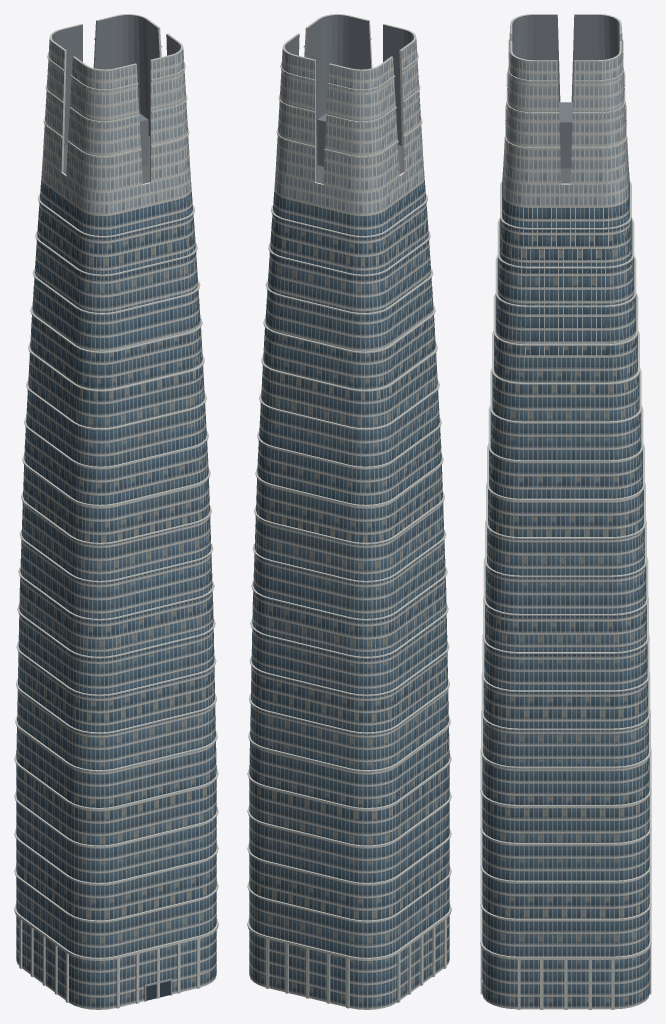
Rendered from salesforce_tower.glb.
The picture shows the model from 3 angles, left to right: view 1: azimuth 30°, elevation 25°; view 2: azimuth 150°, elevation 25°; view 3: azimuth 270°, elevation 25°; orthographic projection.
Visible parts, largest first — view 1: salesforce_tower; view 2: salesforce_tower; view 3: salesforce_tower.
Part boxes in pixels (bbox=[...]): salesforce_tower: bbox=[14, 14, 218, 1009]; salesforce_tower: bbox=[247, 14, 451, 1009]; salesforce_tower: bbox=[480, 14, 651, 1009].
Size of the model in its own units: 54 by 326 by 54.
3 materials, 3 textured.
